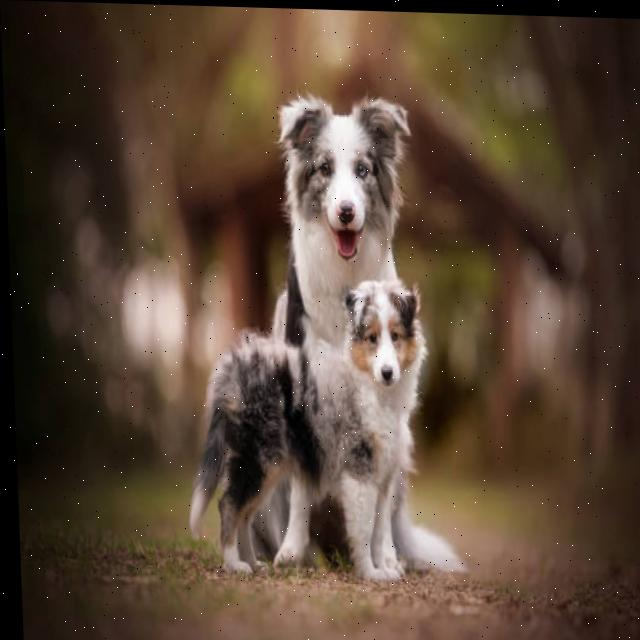BORDER_COLLIE: (260, 80, 461, 580), (173, 270, 437, 589)
